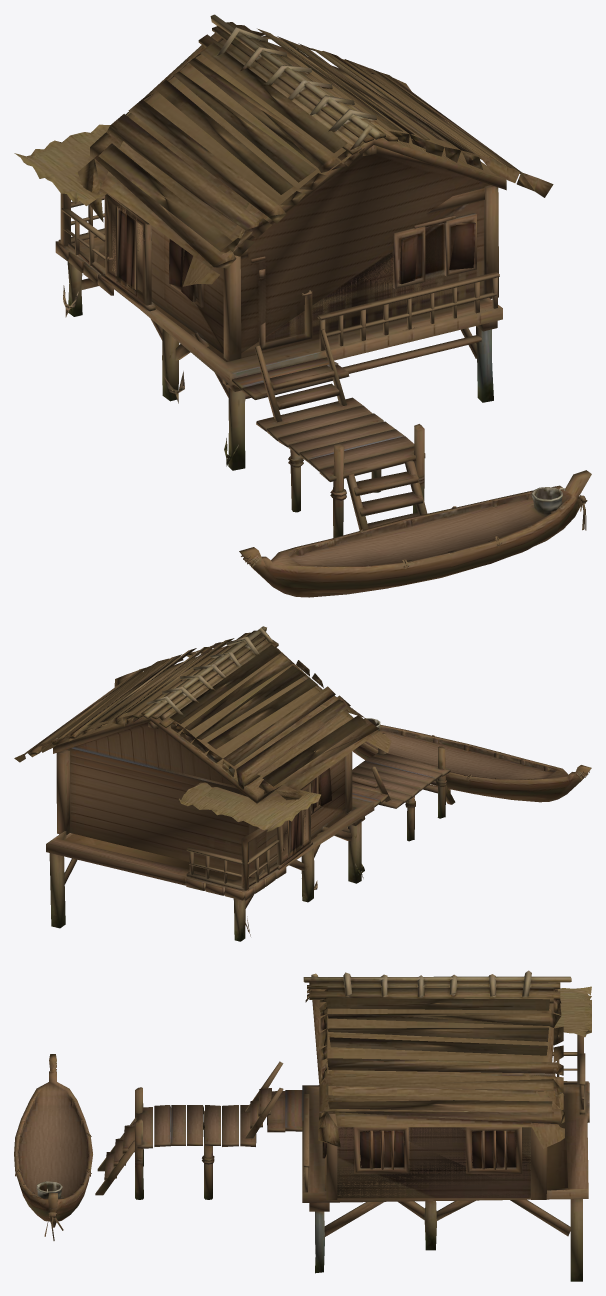
File: 019e3eeb-6d69-7e6e-bad4-ab07cbcc3c6a.glb
3 views of the same model, one above another, from view 1: azimuth 30°, elevation 25°; view 2: azimuth 150°, elevation 25°; view 3: azimuth 270°, elevation 25° (orthographic). The views are drawn at different scales.
Visible parts, largest first — view 1: tripo_node_d5057446-35c3-48e0-a084-857b8587b8e9; view 2: tripo_node_d5057446-35c3-48e0-a084-857b8587b8e9; view 3: tripo_node_d5057446-35c3-48e0-a084-857b8587b8e9.
Part boxes in pixels (x1,y1,x2,y2): tripo_node_d5057446-35c3-48e0-a084-857b8587b8e9: (14, 14, 591, 597); tripo_node_d5057446-35c3-48e0-a084-857b8587b8e9: (14, 626, 591, 941); tripo_node_d5057446-35c3-48e0-a084-857b8587b8e9: (14, 970, 591, 1281).
Bounding box in the file's own units: 0.7832 × 0.498 × 0.998.
Materials: 1 (1 with a texture image).
